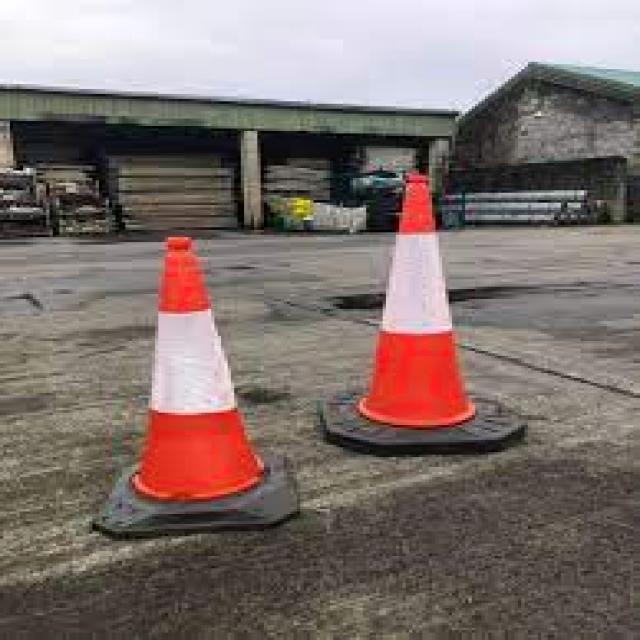cone: (108, 231, 277, 505), (359, 170, 485, 429)
